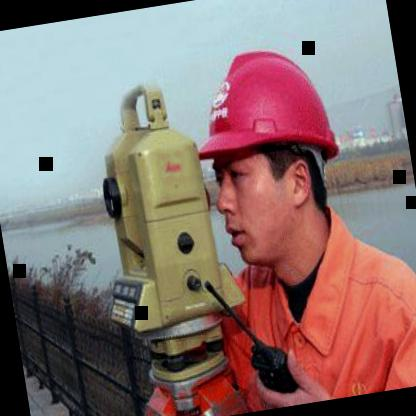helmet: (171, 19, 376, 302)
